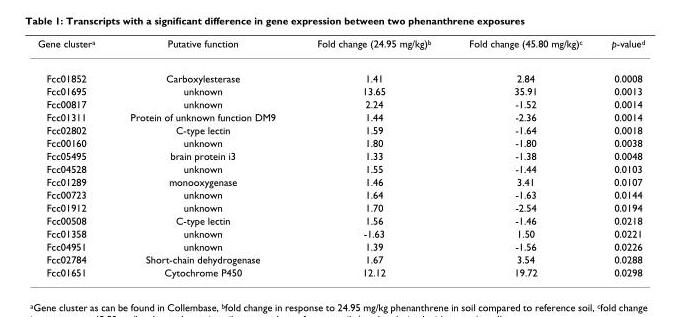table: (36, 37, 644, 277)
table column: (112, 37, 295, 277), (295, 37, 449, 277), (449, 37, 596, 277), (36, 37, 112, 277), (596, 37, 644, 277)
table column header: (36, 37, 644, 60)
table row: (36, 60, 644, 84), (36, 37, 644, 60), (36, 84, 644, 97), (36, 97, 644, 110), (36, 110, 644, 123), (36, 123, 644, 136), (36, 136, 644, 149), (36, 161, 644, 174), (36, 174, 644, 187), (36, 187, 644, 200), (36, 200, 644, 213), (36, 213, 644, 226), (36, 226, 644, 239), (36, 239, 644, 252), (36, 252, 644, 265), (36, 149, 644, 161), (36, 265, 644, 277)
